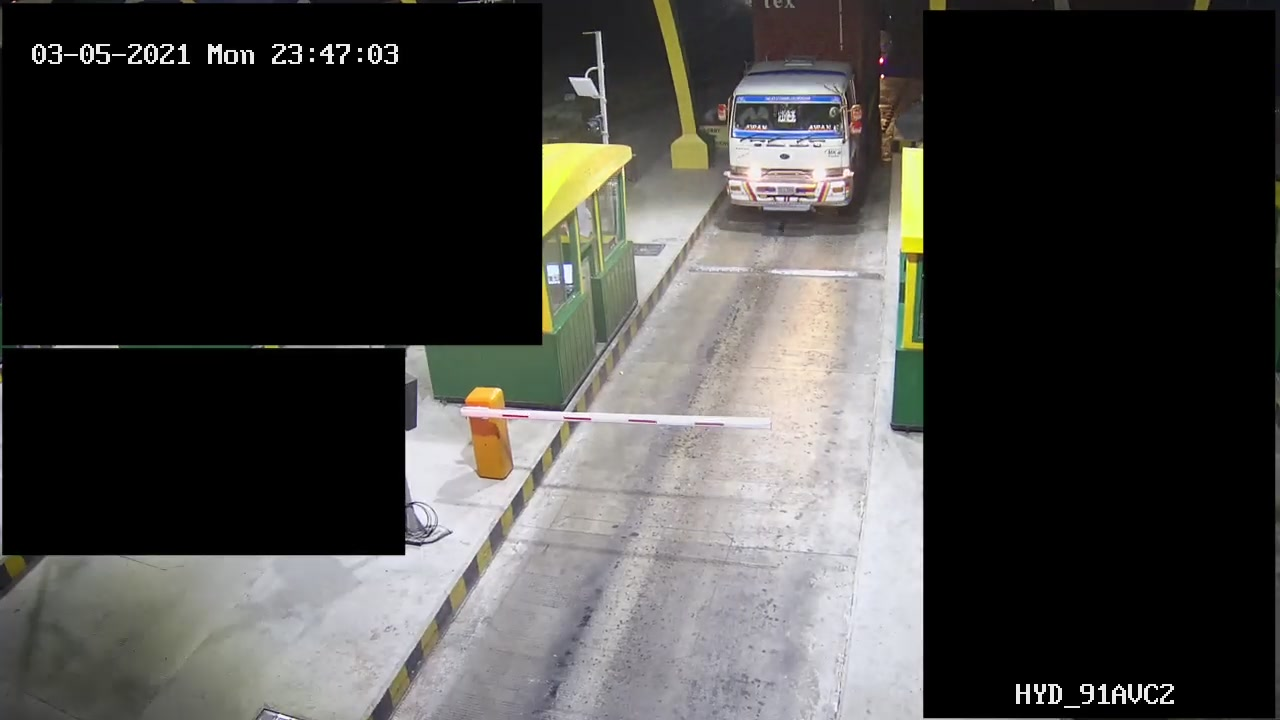F6: (720, 1, 886, 221)
